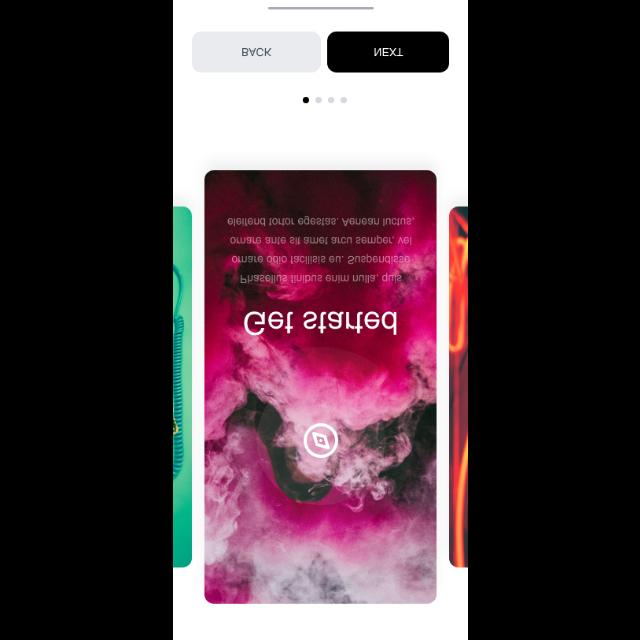image: (204, 170, 436, 602), (173, 207, 191, 567), (449, 207, 467, 567), (302, 422, 340, 458)
pageindicator: (303, 96, 347, 104)
text: (228, 215, 414, 283), (244, 310, 396, 336)
textbutton: (192, 32, 321, 72), (327, 32, 449, 72)
